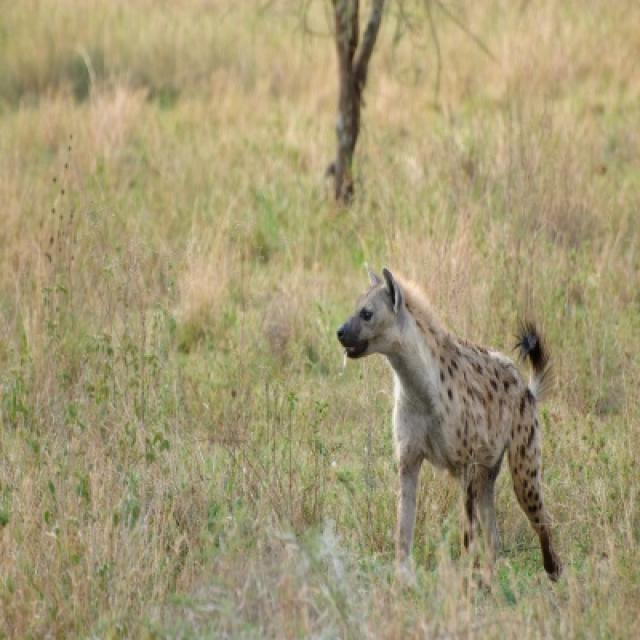hyena: (336, 269, 563, 584)
